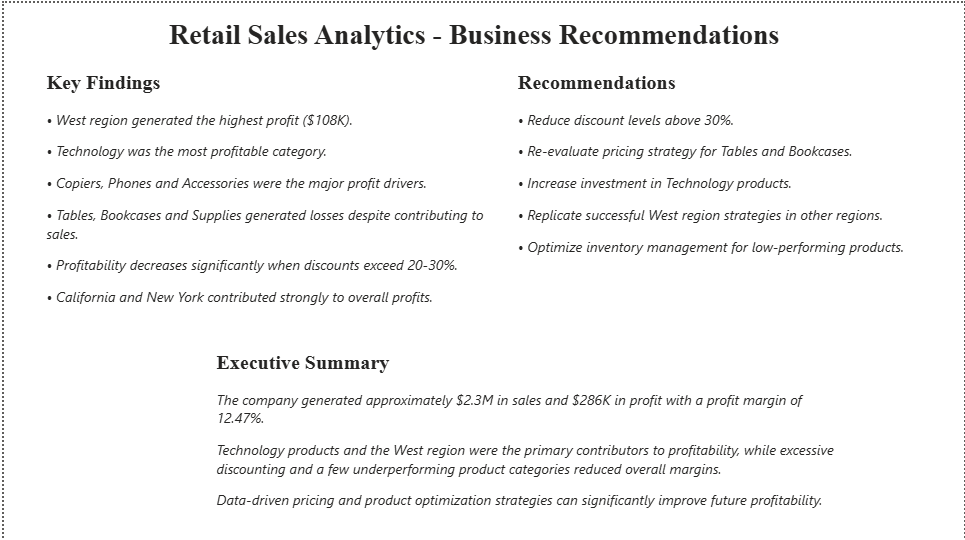

The page's visual inventory and layout, read from the dashboard file:
{"tool":"powerbi","page":{"name":"Business Recommendations","canvas":[1280,720],"ordinal":3},"visuals":[{"type":"textbox","title":"Retail Sales Analytics - Business Recommendations","box":[329.3,28.8,894.7,45.3],"z":0},{"type":"textbox","title":"Key Findings","box":[39.8,56.3,628.5,242.9],"z":2},{"type":"textbox","title":"Executive Summary","box":[215.4,461.1,846.7,149.6],"z":3},{"type":"textbox","title":"Recommendations","box":[684.7,74.1,580.4,225],"z":4}]}

Visuals, with their boxes in screenshot pixels (x1, y1, x2, y2), scaled from the page's 1280x720 canvas onto the 965x540 screenshot:
"Retail Sales Analytics - Business Recommendations" textbox: (248, 22, 923, 56)
"Key Findings" textbox: (30, 42, 504, 224)
"Executive Summary" textbox: (162, 346, 801, 458)
"Recommendations" textbox: (516, 56, 954, 224)
